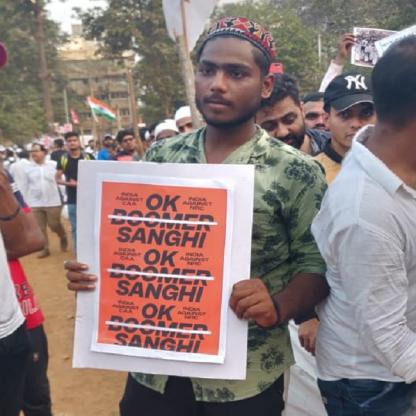BANNER: (77, 163, 253, 382)
